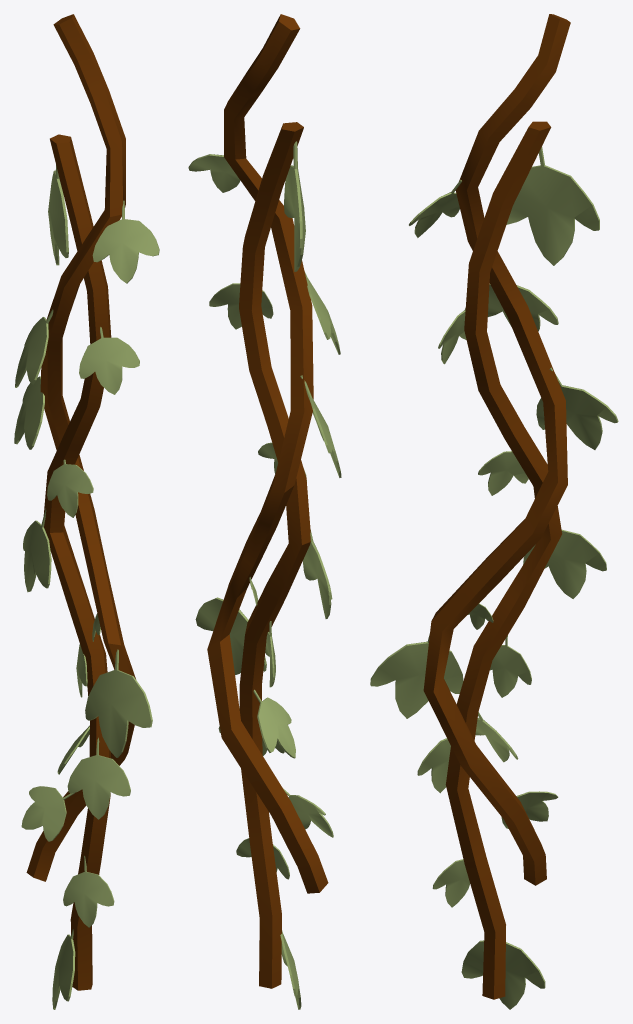
The model's file is vineVine_Style_2.fbx.
3 renders of one model, left to right at view 1: azimuth 30°, elevation 25°; view 2: azimuth 210°, elevation 25°; view 3: azimuth 270°, elevation 25°, orthographic. The views are drawn at different scales.
Visible parts, largest first — view 1: Vine_Style_2; view 2: Vine_Style_2; view 3: Vine_Style_2.
Boxes of the visible parts, bbox=[...] form: Vine_Style_2: bbox=[14, 14, 159, 1009]; Vine_Style_2: bbox=[188, 14, 341, 1009]; Vine_Style_2: bbox=[370, 14, 618, 1009].
Bounding box in the file's own units: 0.2189 × 2.06 × 0.4572.
